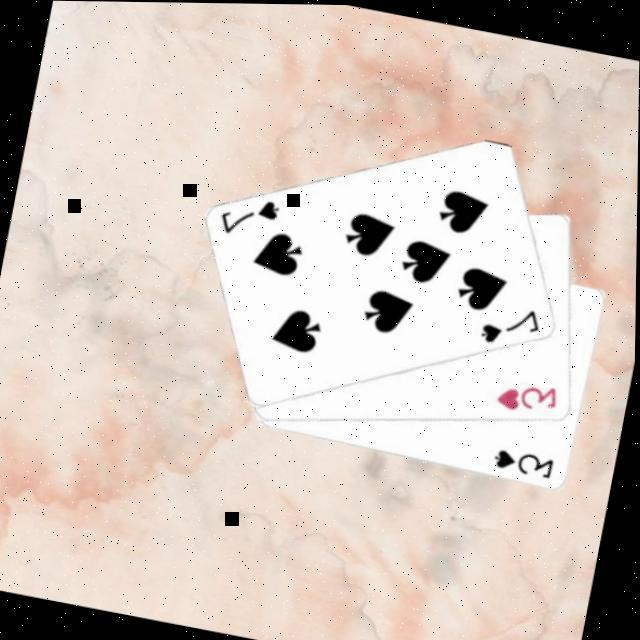3H: (494, 373, 564, 421)
3S: (492, 444, 560, 484)
7S: (478, 297, 548, 356), (214, 190, 286, 247)
